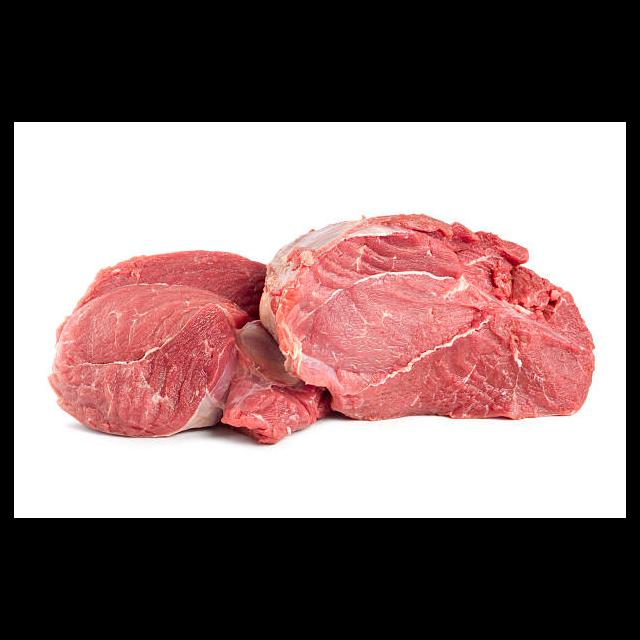beef: (45, 212, 596, 445)
